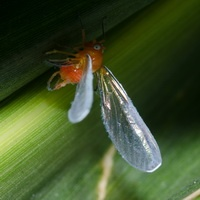insect: (46, 41, 161, 171)
